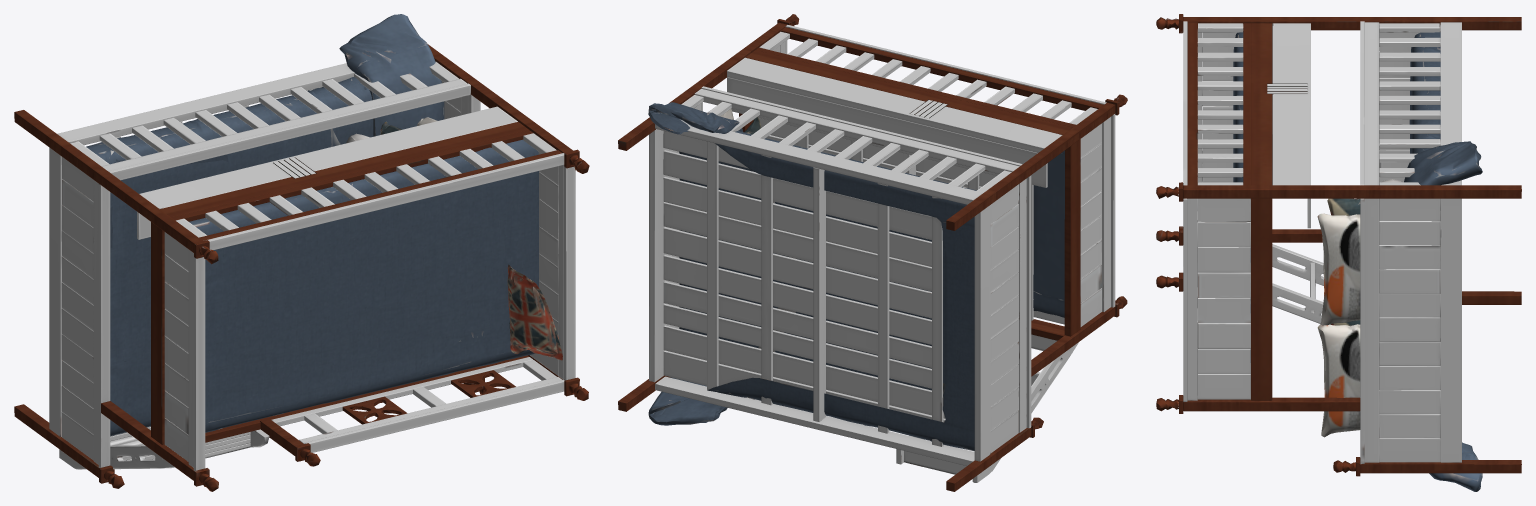
File: raw_model.glb
The picture shows the model from 3 angles, left to right: view 1: azimuth 30°, elevation 25°; view 2: azimuth 150°, elevation 25°; view 3: azimuth 270°, elevation 25°; orthographic projection. The views are drawn at different scales.
Visible parts, largest first — view 1: raw_model.006; view 2: raw_model.006; view 3: raw_model.006.
Boxes of the visible parts, x1,y1,x2,y2 form: raw_model.006: [14, 14, 589, 491]; raw_model.006: [618, 14, 1127, 491]; raw_model.006: [1156, 14, 1521, 491].
Bounding box in the file's own units: 1.9 × 1.72 × 1.68.
Materials: 1 (1 with a texture image).
